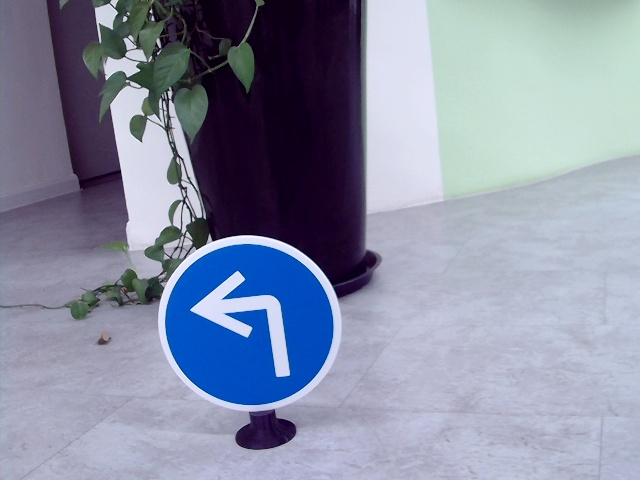turn_left: (192, 265, 289, 379)
